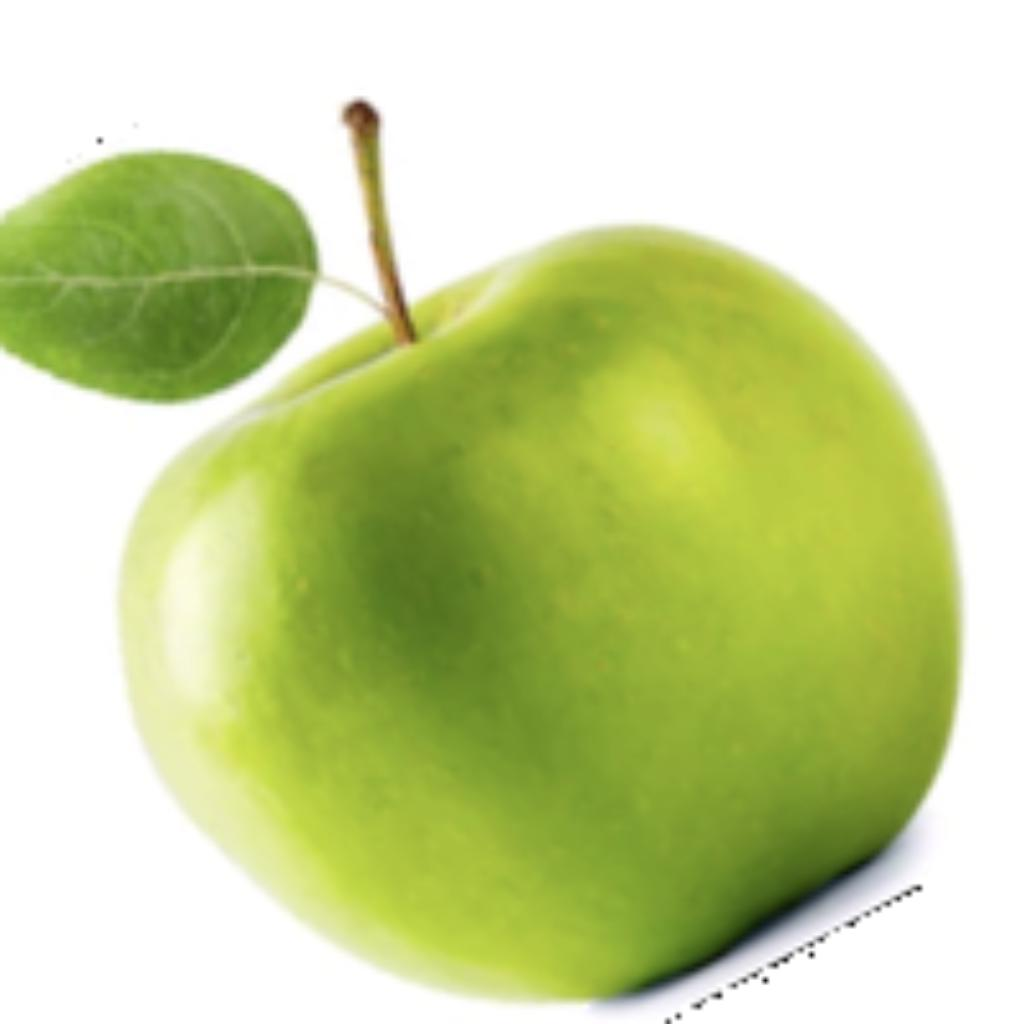apple: (0, 92, 968, 1019)
